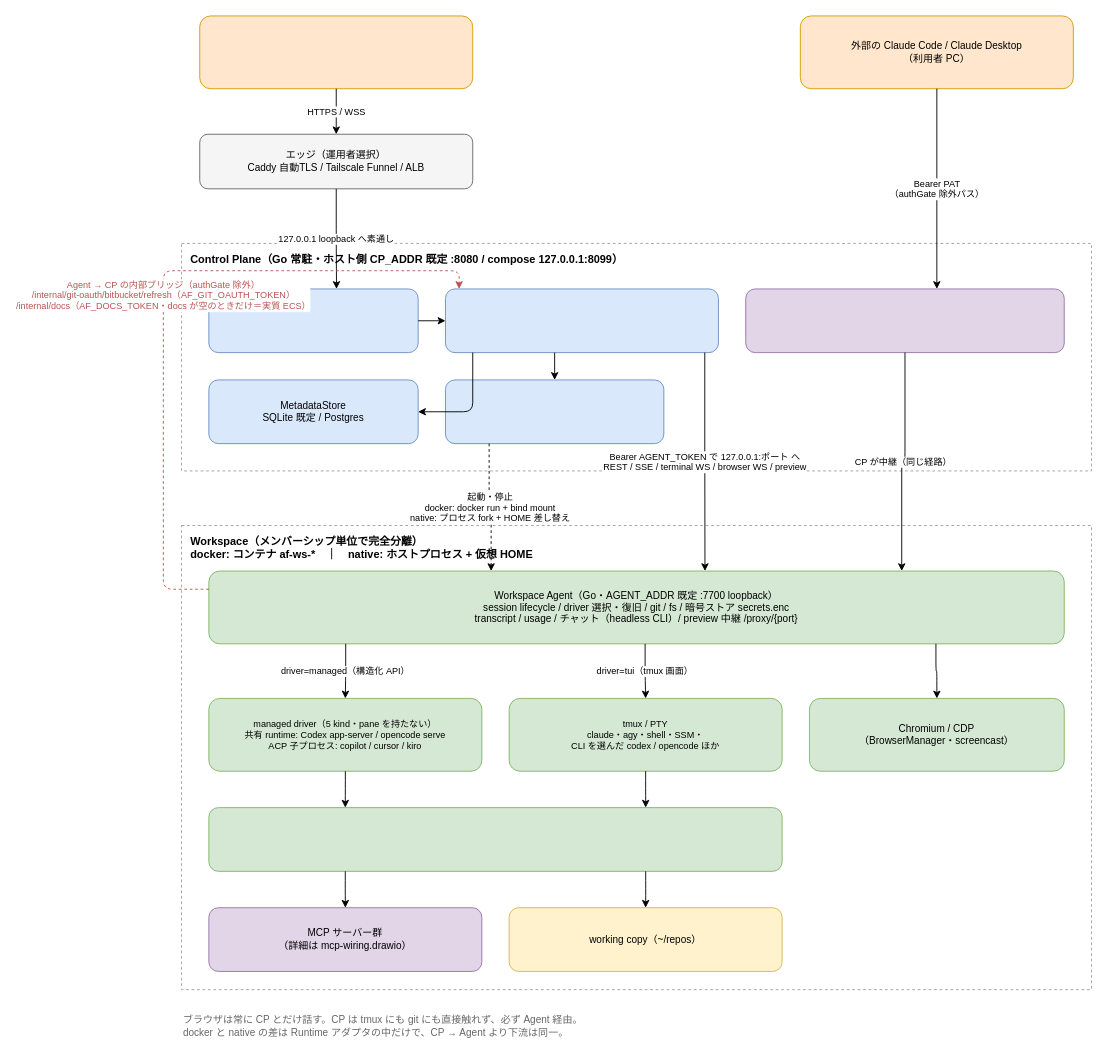
Image size: 1107x1060. Some labels were removed from this diagram. The centre of each missing label's shape, as x and y in pixels:
"/mcp（Streamable HTTP） Bearer PAT・member / admin ツール role は呼び出し時に live 再解決" belongs at (904,320).
"authGate（L1 Console 認証） identity / membership 解決・認可" belongs at (313,320).
"CLI エージェント本体 claude / codex / opencode / copilot / cursor / kiro / agy" belongs at (495,839).
"Console SPA（ブラウザ） React + Vite + zustand xterm.js / BrowserPane" belongs at (336,52).
"REST / WS / SSE 中継 Console dist 静的配信" belongs at (581,320).
"Runtime アダプタ（AF_RUNTIME） local=docker ｜ native/wsl ｜ ecs/aws ｜ ecs-ec2" belongs at (554,411).
